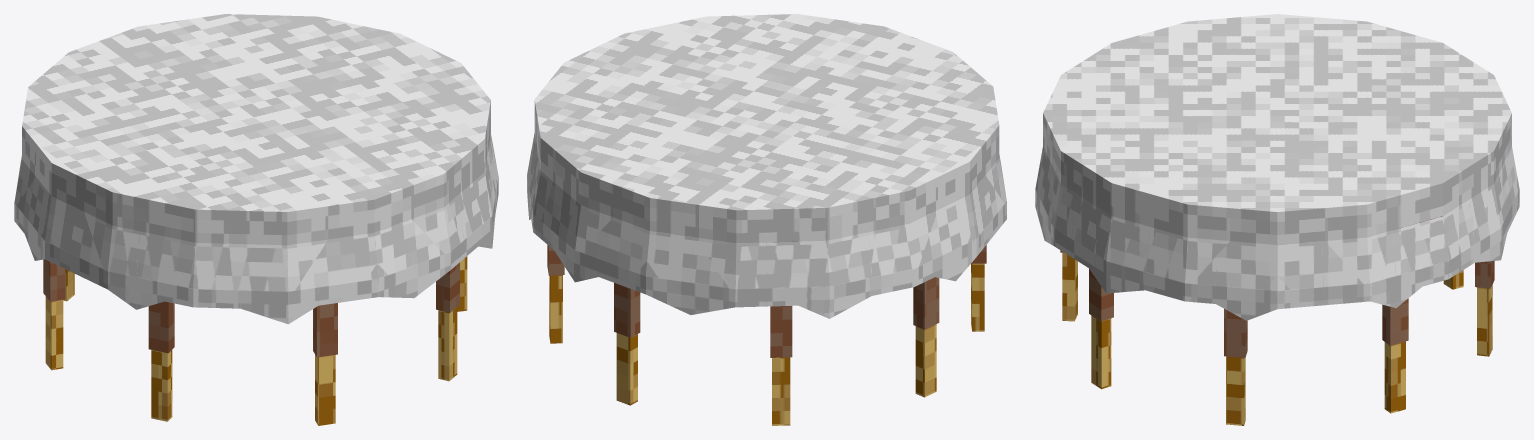
The model's file is table2.fbx.
The picture shows the model from 3 angles, left to right: view 1: azimuth 30°, elevation 25°; view 2: azimuth 150°, elevation 25°; view 3: azimuth 270°, elevation 25°; orthographic projection.
Visible parts, largest first — view 1: Table2; view 2: Table2; view 3: Table2.
Part boxes in pixels (<box>): Table2: <box>14,14,498,425</box>; Table2: <box>527,14,1006,425</box>; Table2: <box>1035,14,1519,425</box>.
Bounding box in the file's own units: 477 × 241 × 477.
3 materials, 3 textured.
